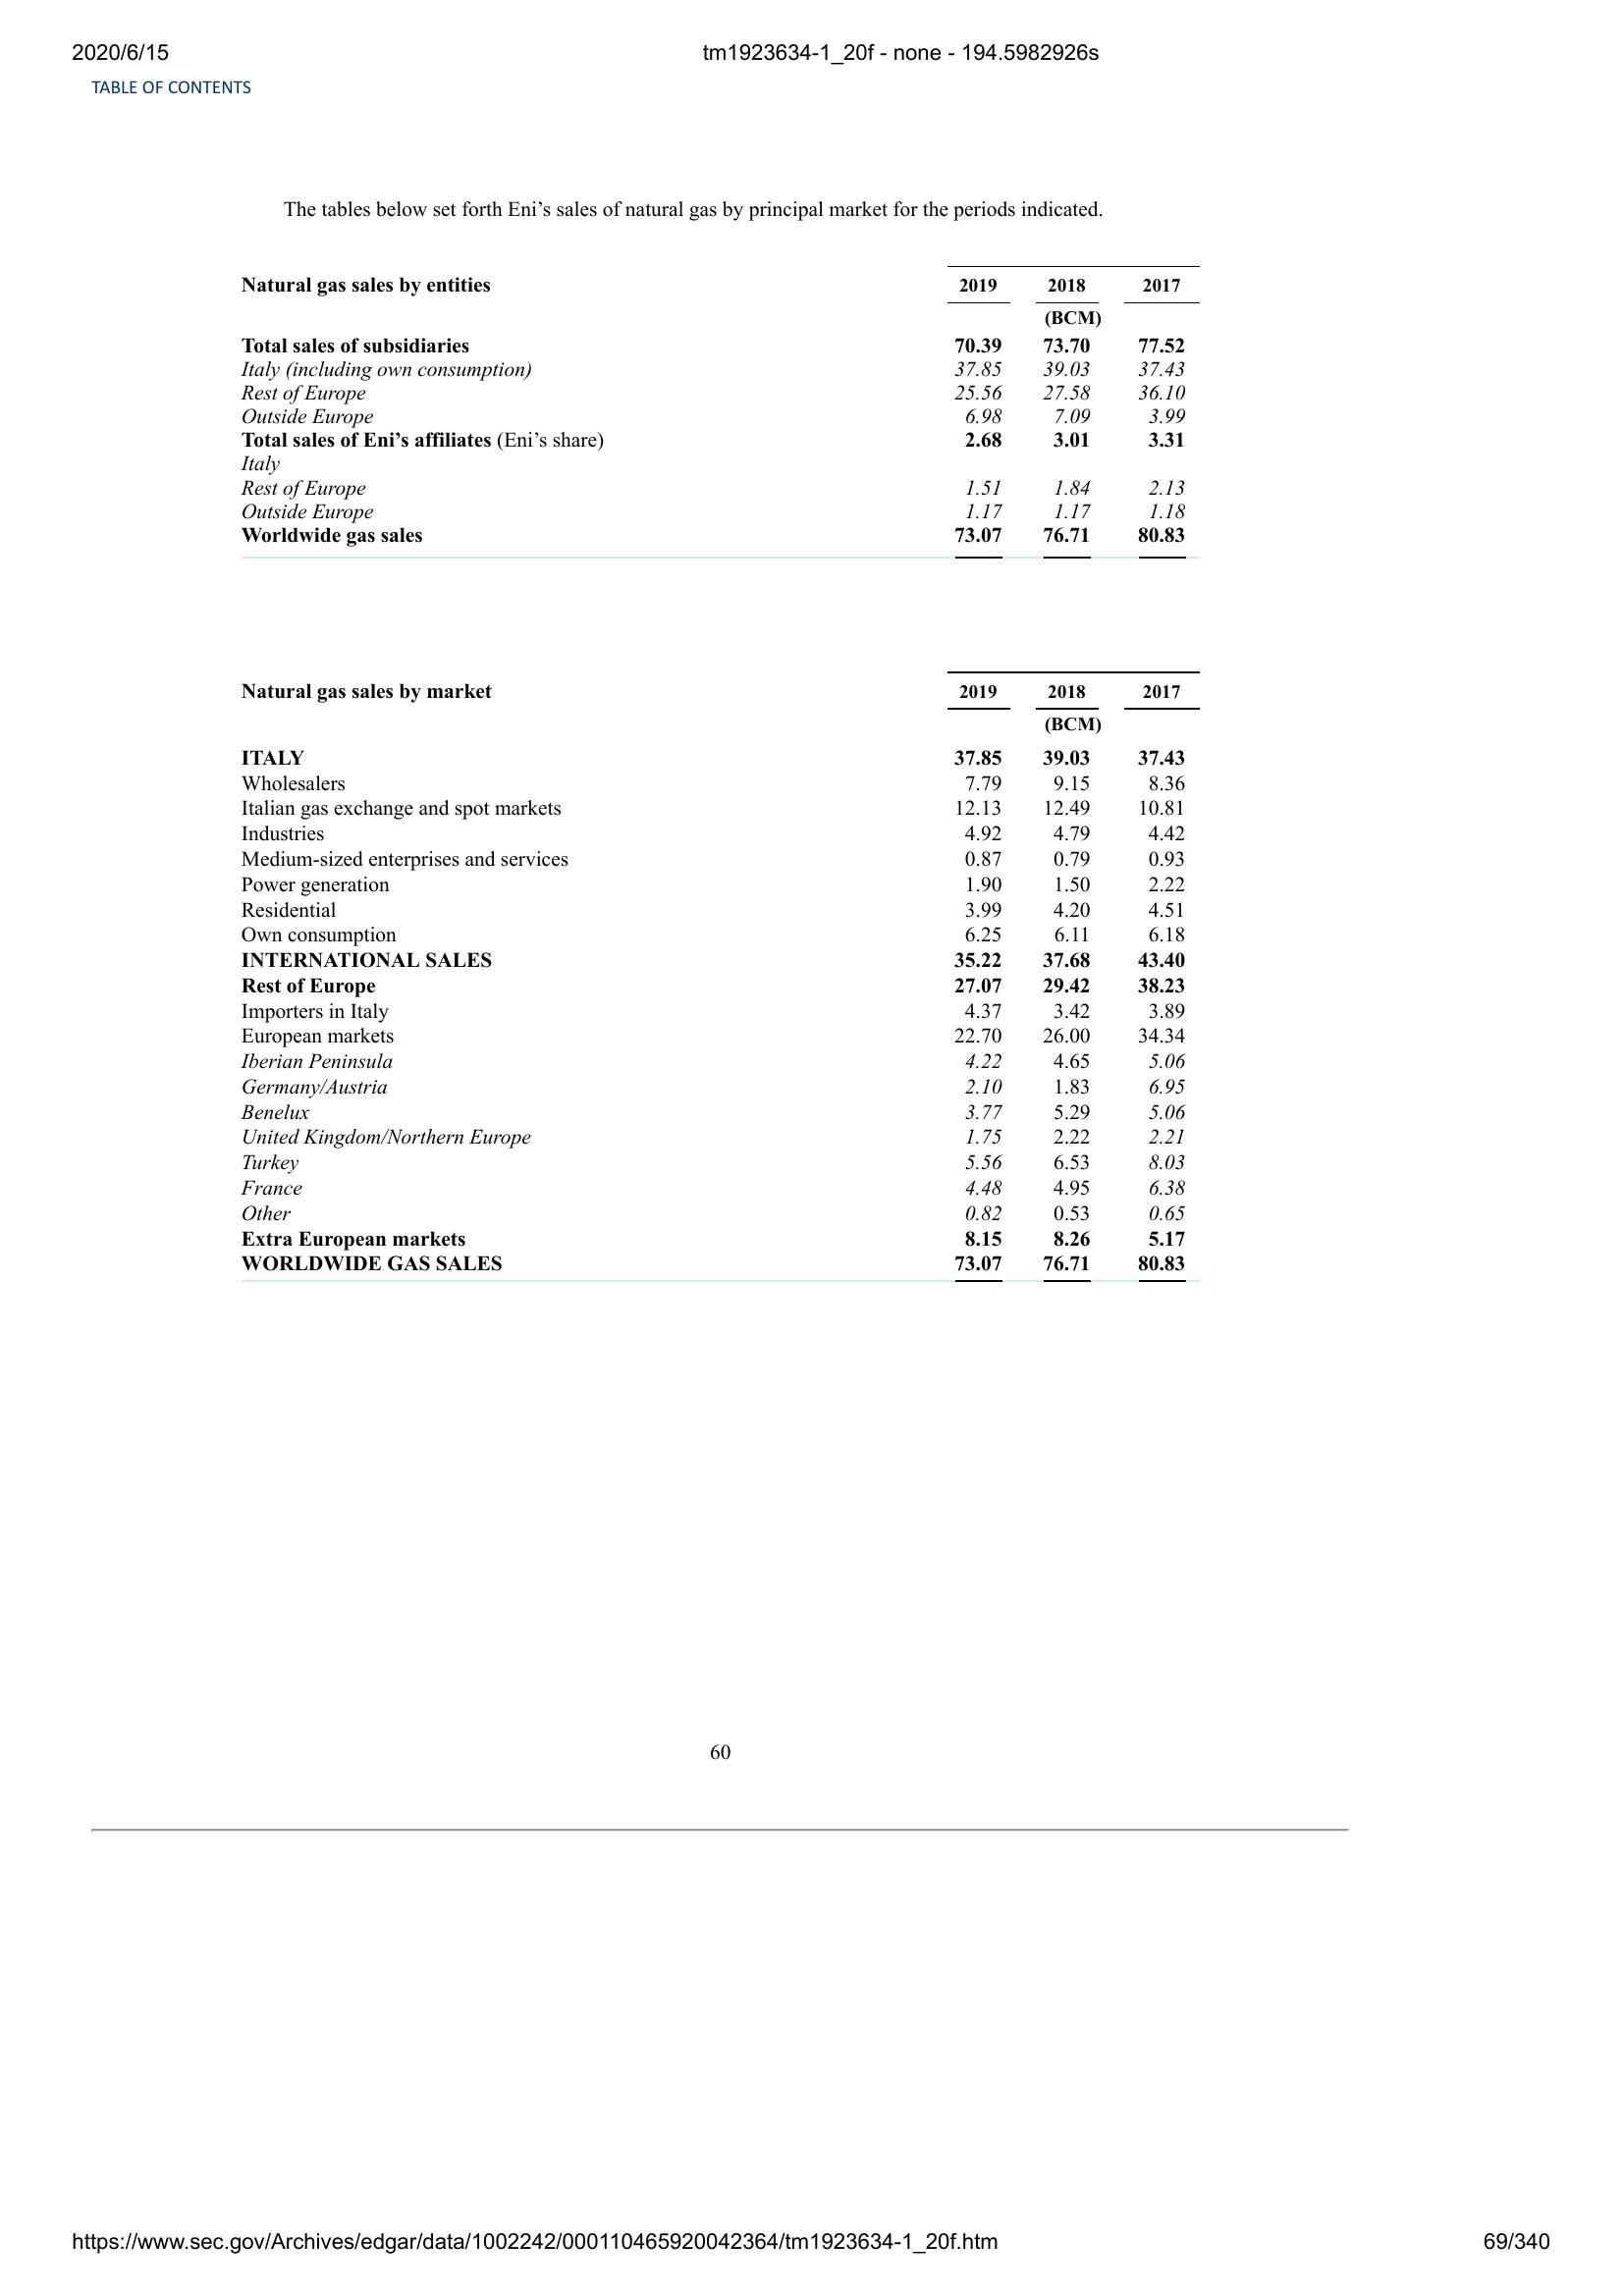table: (232, 662, 1189, 1290), (234, 270, 1200, 567)
